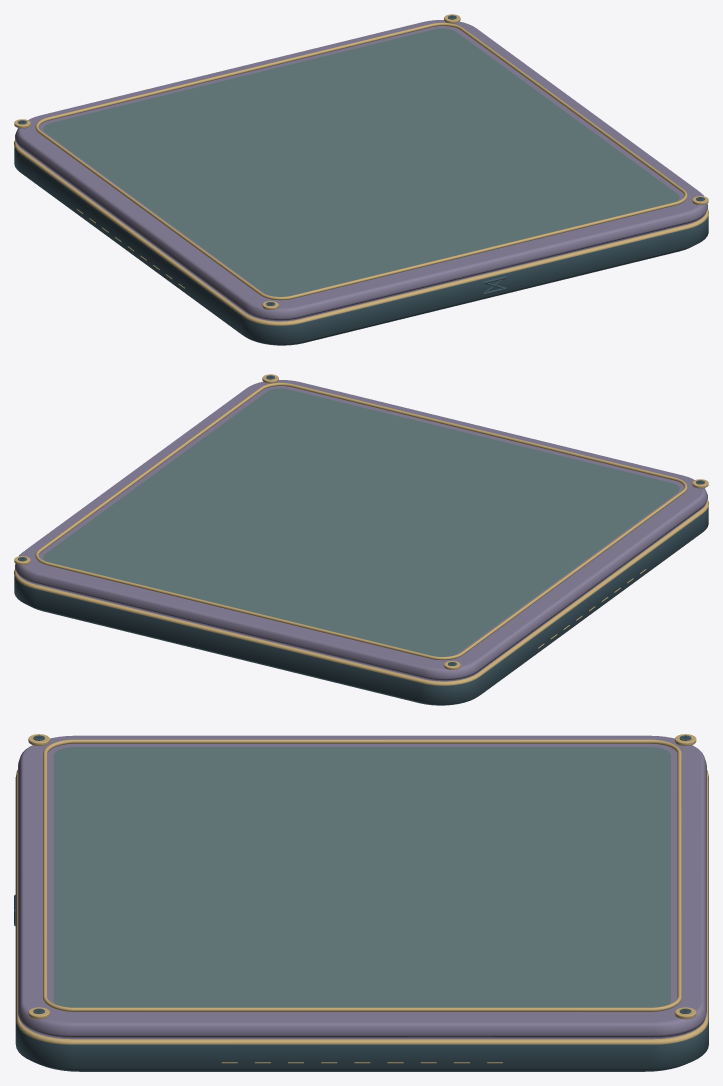
Rendered from echo_case.glb.
The picture shows the model from 3 angles, top to bottom: view 1: azimuth 30°, elevation 25°; view 2: azimuth 150°, elevation 25°; view 3: azimuth 270°, elevation 25°; orthographic projection. The views are drawn at different scales.
Parts seen in each view (by area): view 1: echo_case__Fine_slate_inset, echo_case__Muted_clockwork_lavender, echo_case__Deep_sea_enamel, echo_case__Brushed_champagne_brass; view 2: echo_case__Fine_slate_inset, echo_case__Muted_clockwork_lavender, echo_case__Deep_sea_enamel, echo_case__Brushed_champagne_brass; view 3: echo_case__Fine_slate_inset, echo_case__Muted_clockwork_lavender, echo_case__Deep_sea_enamel, echo_case__Brushed_champagne_brass.
Boxes of the visible parts, left/top/right/bottom form: echo_case__Fine_slate_inset: left=43, top=28, right=679, bottom=296; echo_case__Muted_clockwork_lavender: left=15, top=20, right=707, bottom=321; echo_case__Deep_sea_enamel: left=14, top=15, right=708, bottom=345; echo_case__Brushed_champagne_brass: left=14, top=14, right=708, bottom=325; echo_case__Fine_slate_inset: left=43, top=388, right=679, bottom=656; echo_case__Muted_clockwork_lavender: left=15, top=380, right=707, bottom=681; echo_case__Deep_sea_enamel: left=14, top=375, right=708, bottom=705; echo_case__Brushed_champagne_brass: left=14, top=374, right=708, bottom=685; echo_case__Fine_slate_inset: left=53, top=747, right=670, bottom=1007; echo_case__Muted_clockwork_lavender: left=18, top=735, right=706, bottom=1039; echo_case__Deep_sea_enamel: left=14, top=735, right=708, bottom=1071; echo_case__Brushed_champagne_brass: left=16, top=734, right=708, bottom=1063.
Size of the model in its own units: 8.17 by 0.8327 by 8.17.
